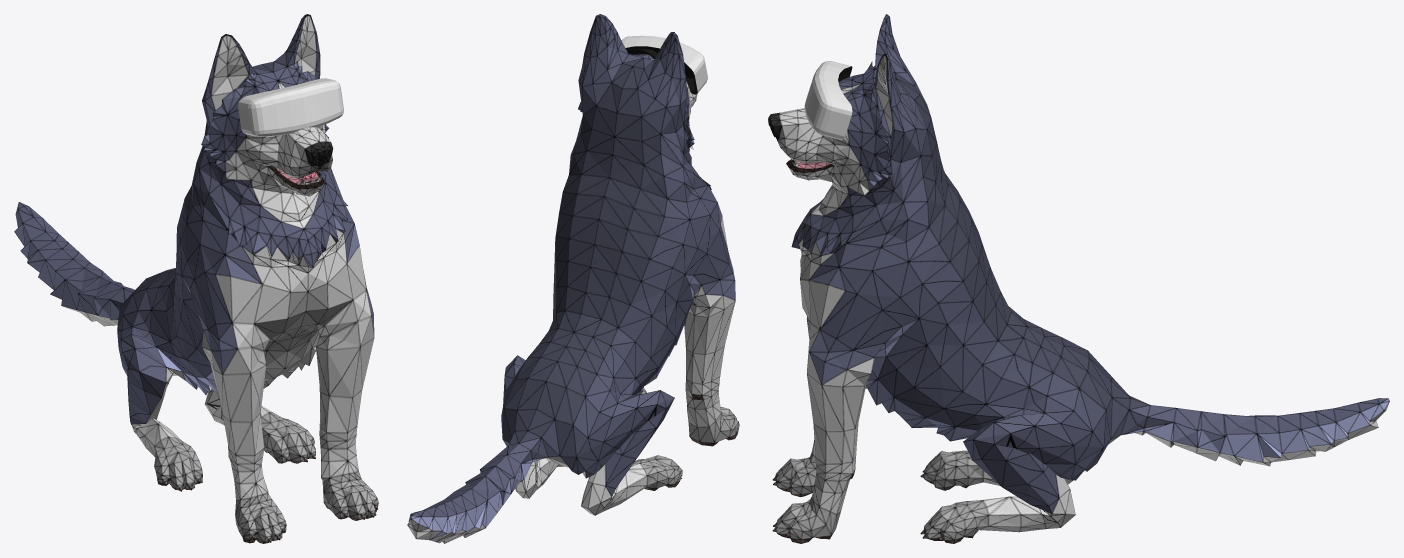
Rendered from vr_hund.glb.
3 renders of one model, left to right at view 1: azimuth 30°, elevation 25°; view 2: azimuth 150°, elevation 25°; view 3: azimuth 270°, elevation 25°, orthographic. The views are drawn at different scales.
Visible parts, largest first — view 1: Husky_4; view 2: Husky_4; view 3: Husky_4.
Boxes of the visible parts, x1,y1,x2,y2 form: Husky_4: [14, 14, 378, 543]; Husky_4: [407, 14, 739, 543]; Husky_4: [768, 14, 1389, 543].
Size of the model in its own units: 0.3131 by 0.831 by 0.9788.
2 materials, 2 textured.
